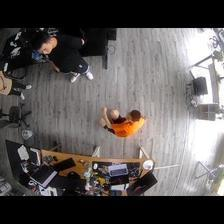fall: (92, 107, 146, 136)
normal: (29, 31, 94, 83)
